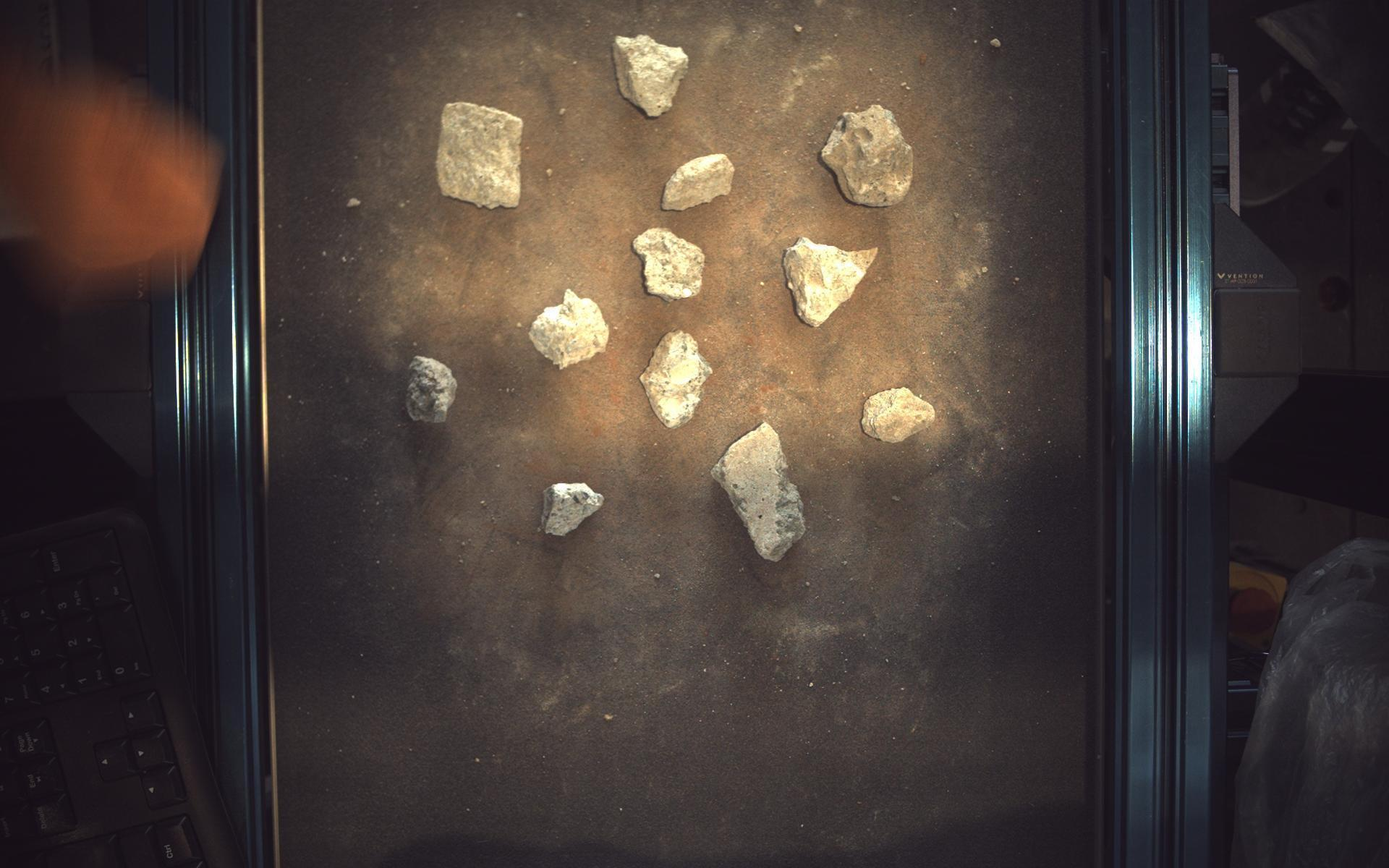concrete: (713, 422, 807, 562), (823, 103, 915, 206), (436, 101, 523, 208), (784, 237, 878, 327), (640, 330, 713, 428), (529, 289, 610, 369), (613, 33, 689, 116), (634, 227, 706, 301), (663, 153, 736, 210), (863, 387, 937, 443), (406, 356, 457, 423), (543, 483, 604, 537)
